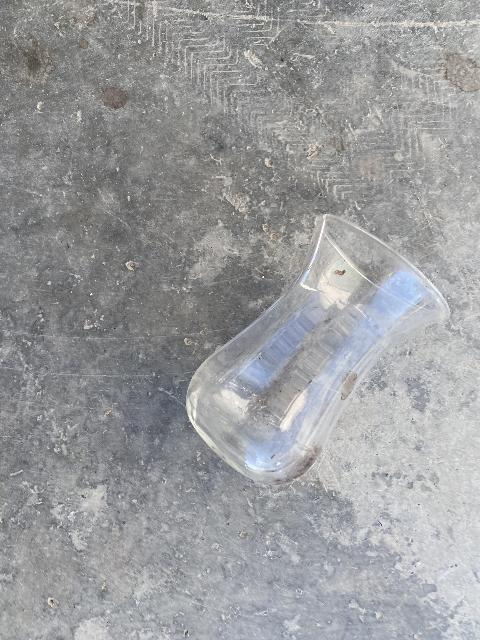Cam: (185, 211, 455, 495)
